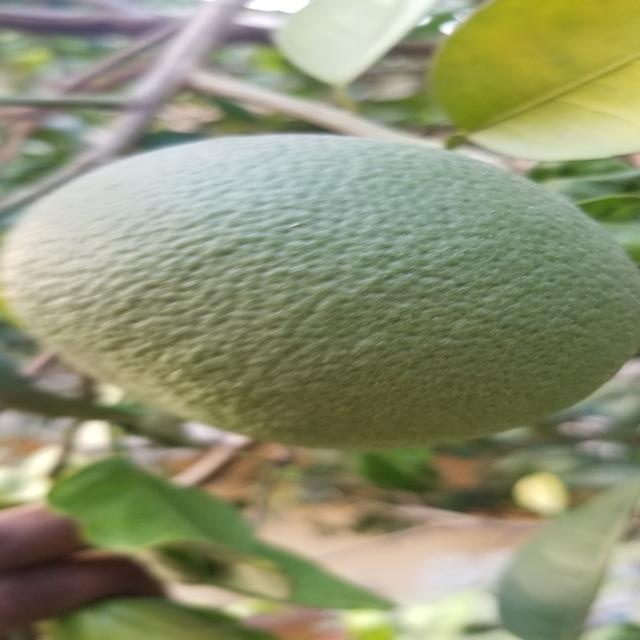agrume: (0, 124, 640, 452)
